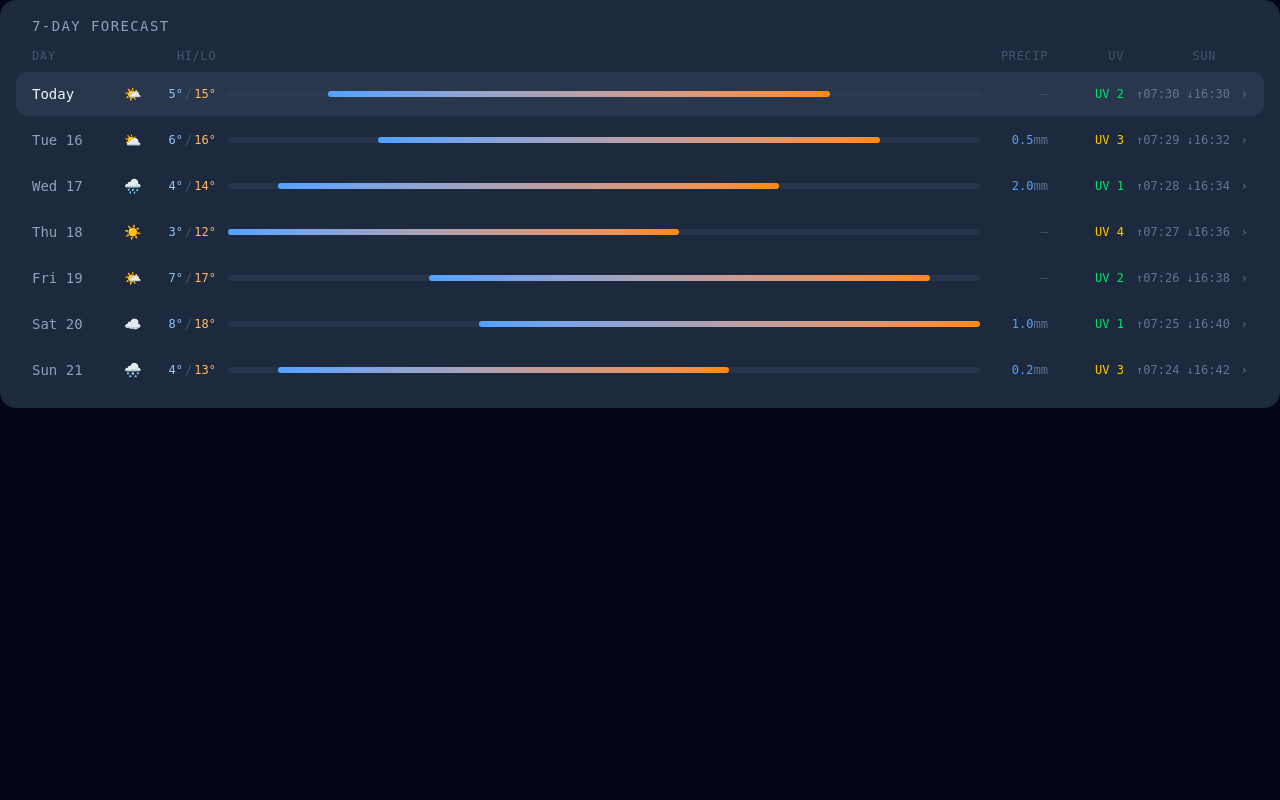
Test: DailyForecast › collapses hourly section on second click of the same row
Click the text "Today" at (53, 94), box [32, 86, 74, 102]
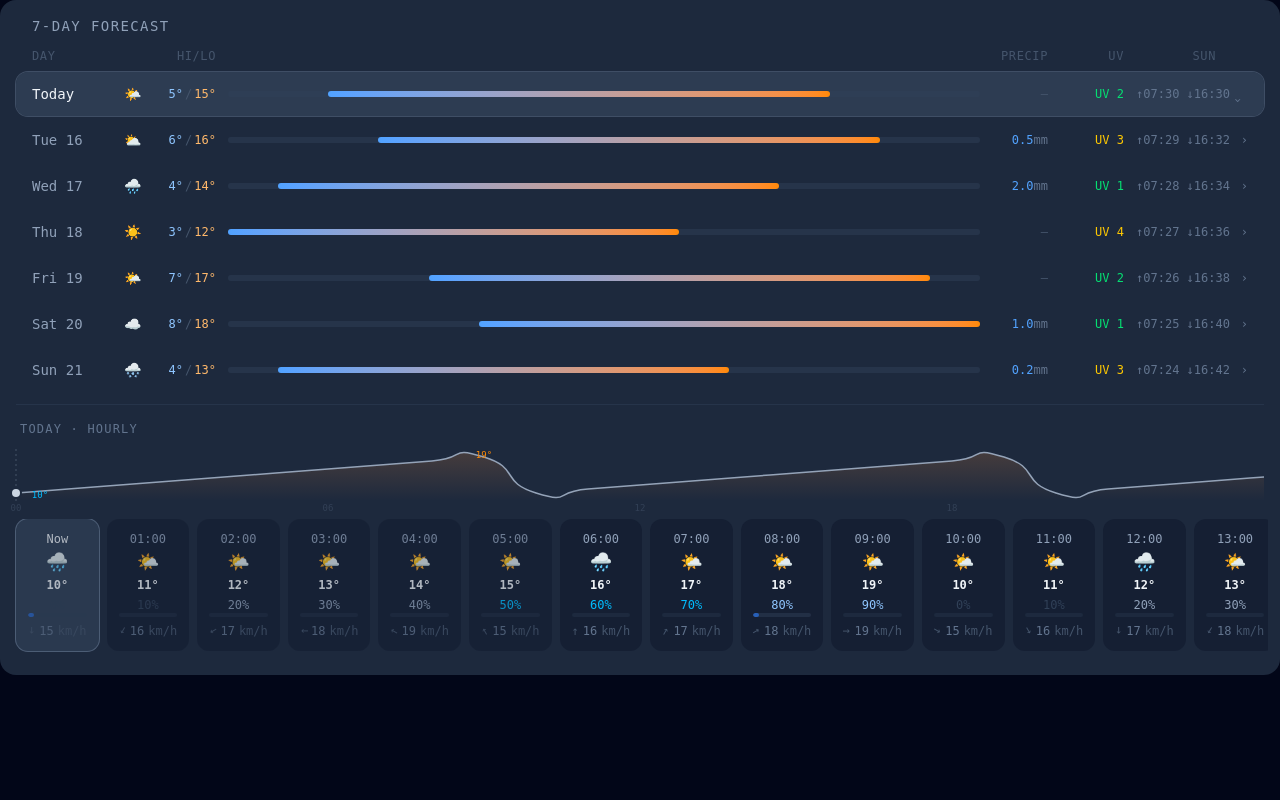
Expected: the text "Today · Hourly" is shown, [20, 422, 138, 436]
Click the text "Today" at (53, 94), box [32, 86, 74, 102]
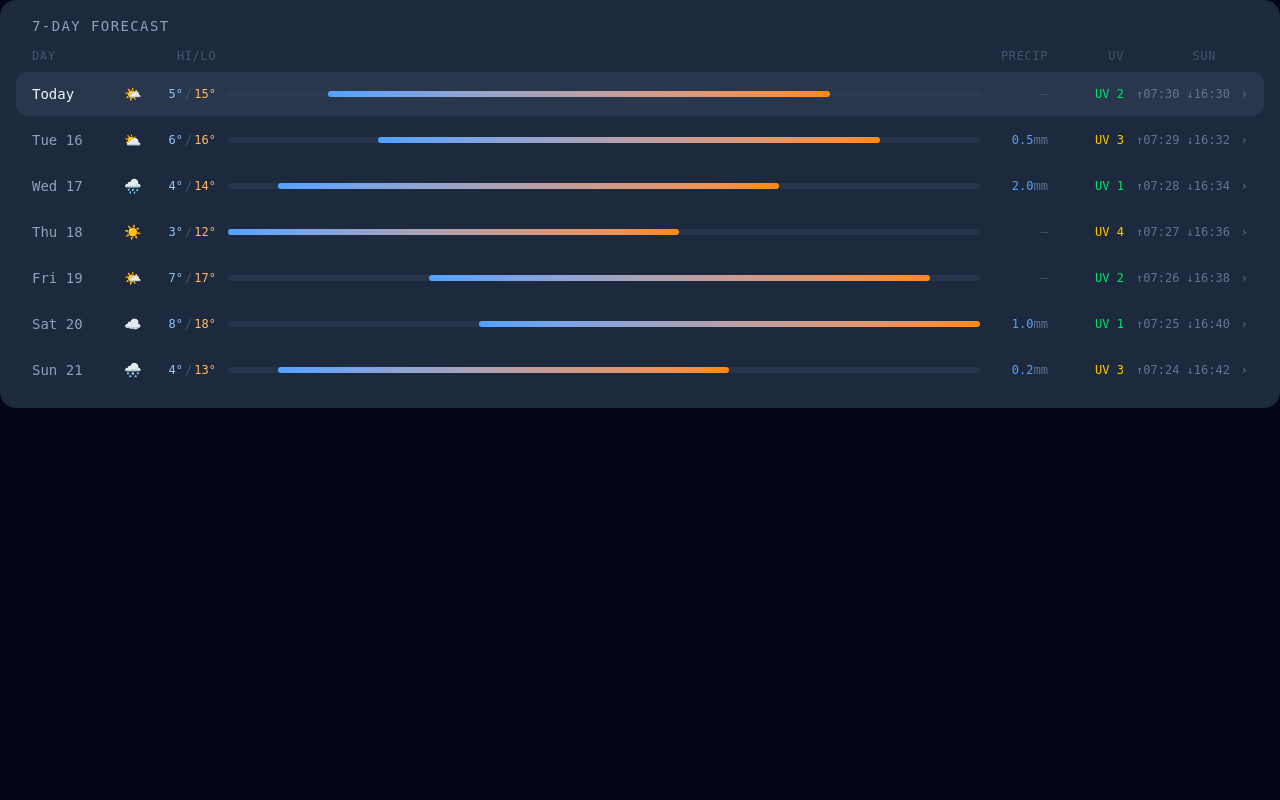
Expected: the text "Today · Hourly" is gone
